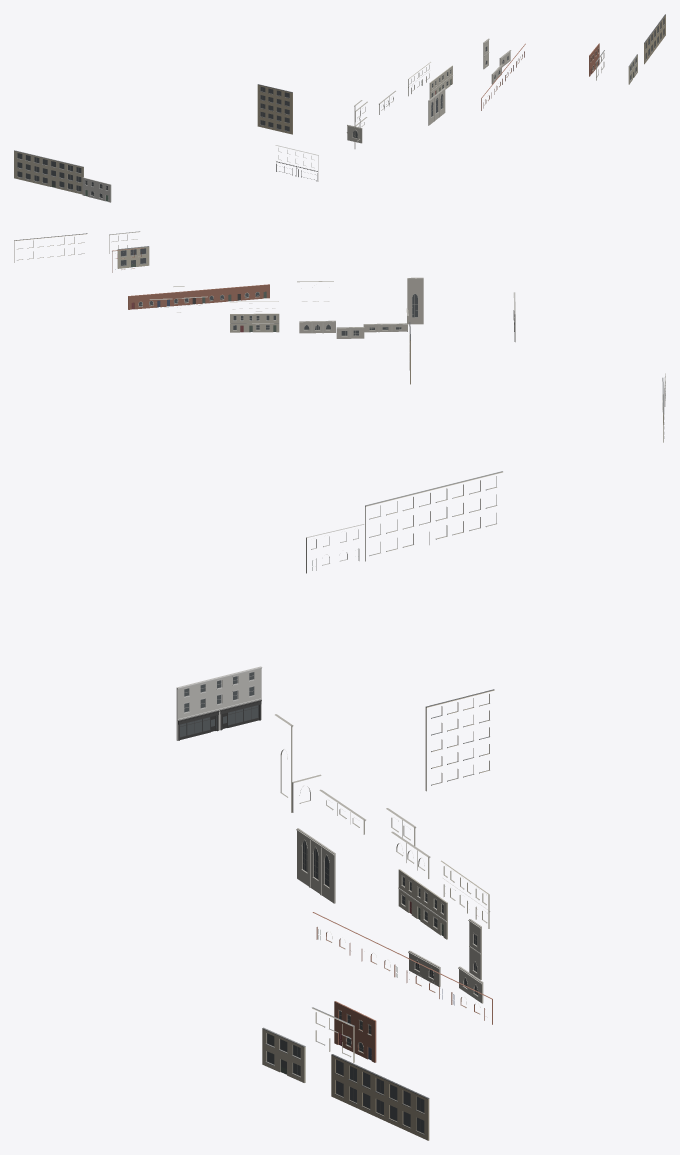
3 renders of one model, top to bottom at view 1: azimuth 30°, elevation 25°; view 2: azimuth 150°, elevation 25°; view 3: azimuth 270°, elevation 25°, orthographic. The views are drawn at different scales.
Visible parts, largest first — view 1: f:way/151074171, f:way/45826776, f:way/40964578, f:way/171233691, f:way/151074173, f:way/134802641, f:way/134799582, f:way/134799589, f:way/171233689, f:way/169704336; view 2: f:way/134799582, f:way/40964578, f:way/171233691, f:way/134799589; view 3: f:way/169704336, f:way/134802641, f:way/40964578, f:way/134799582, f:way/171233691, f:way/134799589, f:way/171233689, f:way/151074171.
Part boxes in pixels (box(x1,y1,x2,y2)): f:way/151074171: box(14, 150, 83, 194); f:way/45826776: box(257, 84, 292, 134); f:way/40964578: box(346, 87, 445, 148); f:way/171233691: box(408, 62, 452, 98); f:way/151074173: box(82, 177, 111, 202); f:way/134802641: box(644, 14, 665, 64); f:way/134799582: box(481, 43, 599, 110); f:way/134799589: box(595, 50, 637, 84); f:way/171233689: box(483, 38, 511, 69); f:way/169704336: box(275, 145, 318, 181); f:way/134799582: box(112, 248, 269, 309); f:way/40964578: box(297, 277, 423, 338); f:way/171233691: box(230, 301, 279, 332); f:way/134799589: box(109, 231, 149, 268); f:way/169704336: box(176, 666, 262, 740); f:way/134802641: box(331, 1054, 429, 1140); f:way/40964578: box(275, 714, 430, 903); f:way/134799582: box(312, 912, 492, 1062); f:way/171233691: box(398, 860, 490, 939); f:way/134799589: box(262, 1007, 354, 1082); f:way/171233689: box(458, 919, 483, 1003); f:way/151074171: box(365, 471, 502, 561).
Bounding box in the file's own units: 233 × 17.71 × 52.07.
